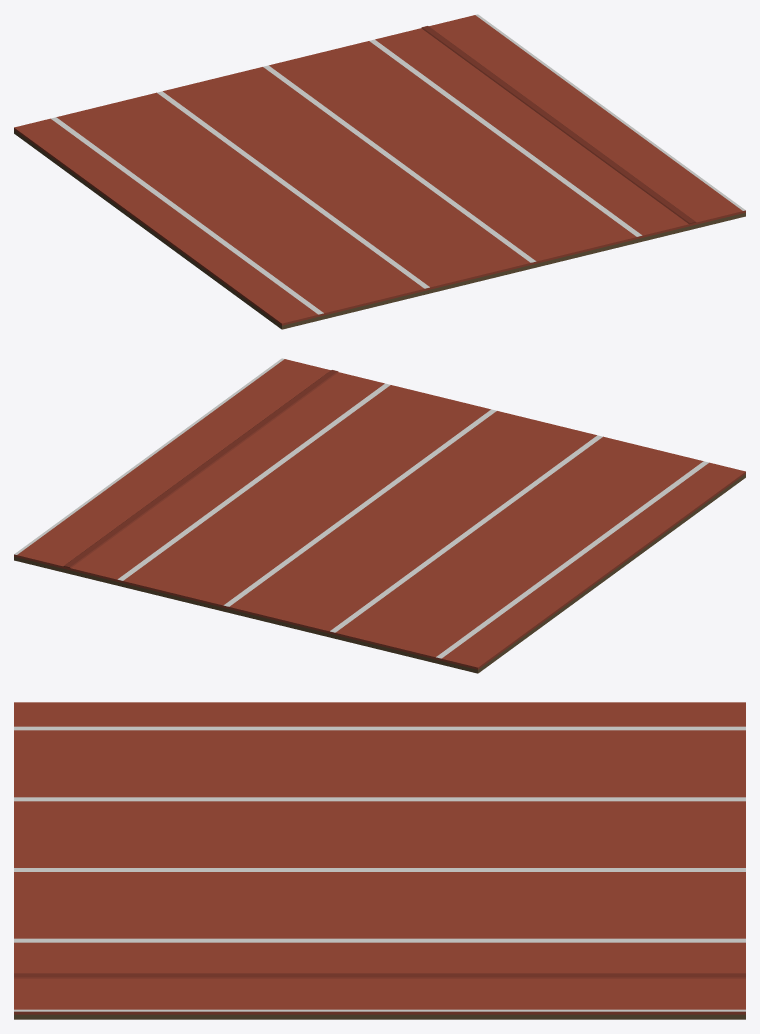
File: a-running-track-tile-daf991.glb
3 renders of one model, top to bottom at view 1: azimuth 30°, elevation 25°; view 2: azimuth 150°, elevation 25°; view 3: azimuth 270°, elevation 25°, orthographic. The views are drawn at different scales.
Parts seen in each view (by area): view 1: track; view 2: track; view 3: track.
Boxes of the visible parts, bbox=[...] form: track: bbox=[14, 14, 745, 329]; track: bbox=[14, 358, 745, 673]; track: bbox=[14, 702, 745, 1019].
Size of the model in its own units: 4 by 0.056 by 4.
